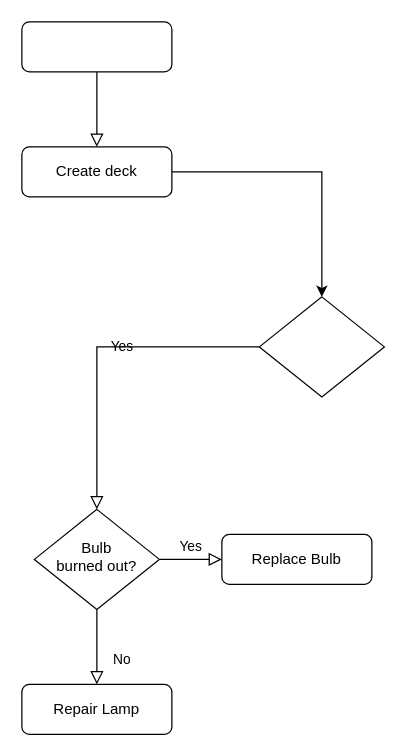
The diagram is 406 pixels wide and 756 high, and some of its shapes have lost their labels. The centre of each missing label's shape, as x and y in pixels:
Deck created?: pixel 321 346
Game started!: pixel 96 46
